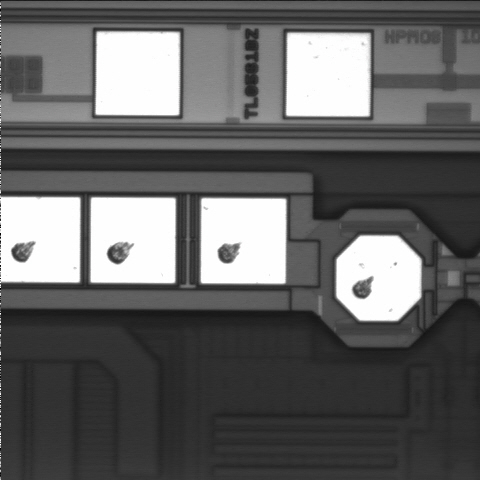pad: (201, 198, 286, 284), (91, 198, 176, 283), (336, 236, 421, 321), (96, 32, 180, 115), (286, 33, 370, 116)
